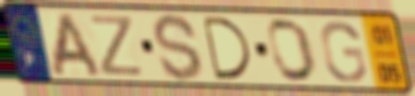A: (50, 11, 105, 79)
D: (199, 14, 255, 82)
G: (318, 19, 369, 85)
O: (265, 16, 319, 85)
S: (150, 11, 206, 83)
Z: (87, 13, 146, 78)
